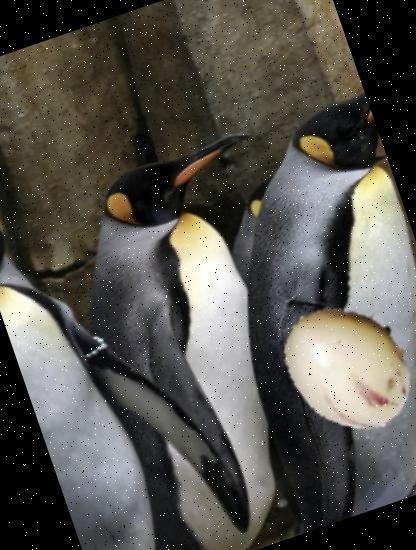Pepino: (263, 278, 416, 453)
